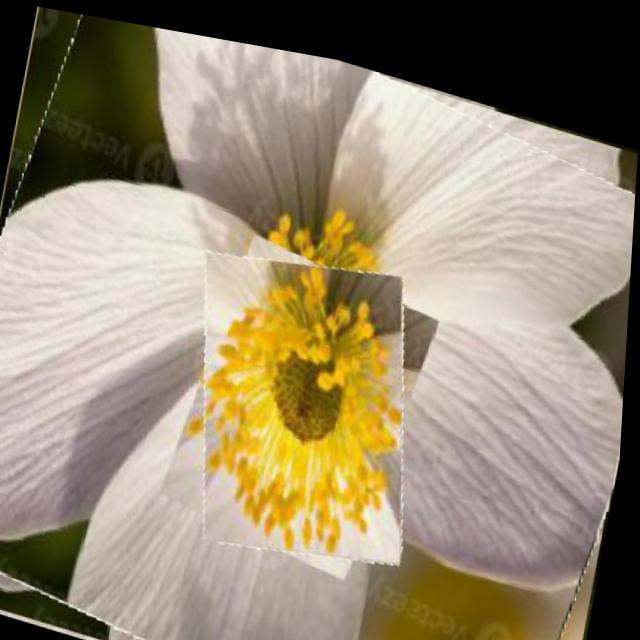Flower: (172, 216, 442, 578)
